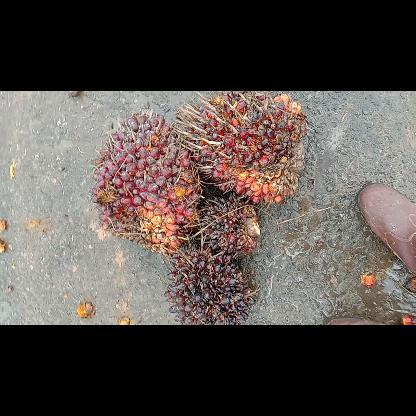TBS abnormal: (162, 234, 258, 324), (187, 194, 262, 258)
TBS masak: (90, 106, 206, 256), (169, 92, 308, 206)
